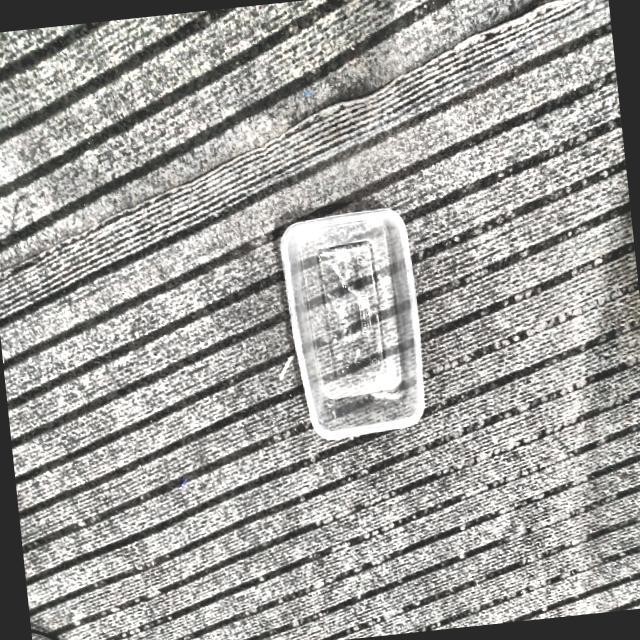plastic container: (299, 219, 401, 399)
